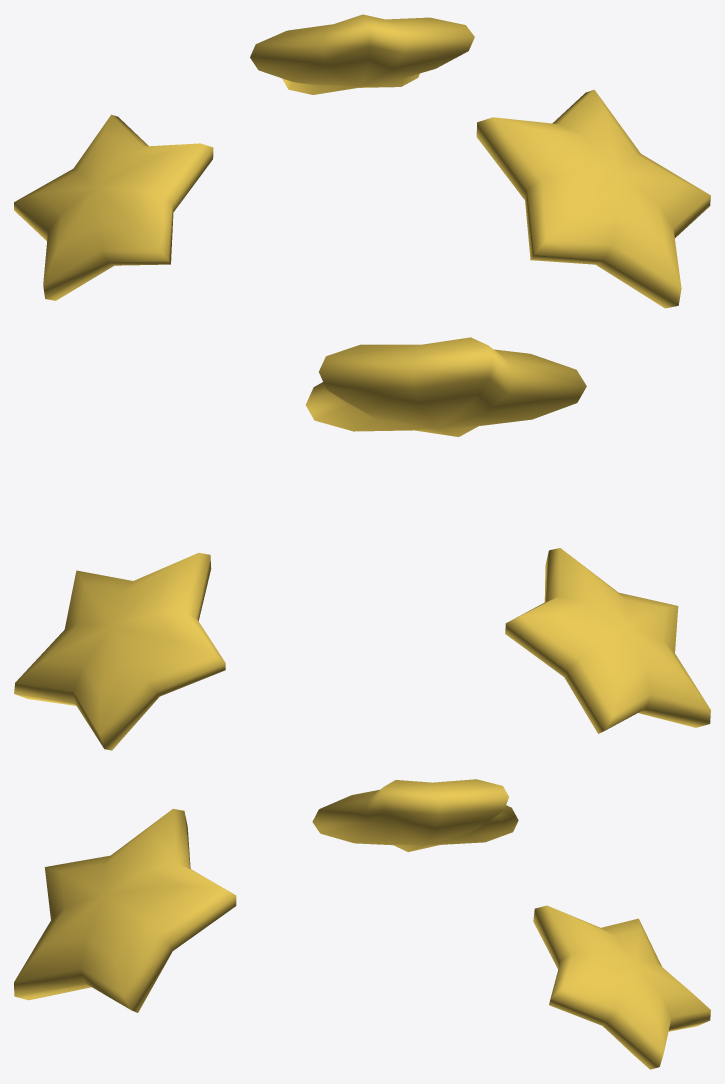
File: Stars.fbx
3 views of the same model, one above another, from view 1: azimuth 30°, elevation 25°; view 2: azimuth 150°, elevation 25°; view 3: azimuth 270°, elevation 25° (orthographic). The views are drawn at different scales.
Visible parts, largest first — view 1: Star1, Star3, Star2; view 2: Star2, Star1, Star3; view 3: Star1, Star2, Star3.
Part boxes in pixels (bbox=[...]): Star1: bbox=[476, 89, 710, 308]; Star3: bbox=[14, 114, 213, 300]; Star2: bbox=[250, 14, 474, 94]; Star2: bbox=[14, 553, 225, 750]; Star1: bbox=[305, 337, 586, 436]; Star3: bbox=[505, 548, 710, 733]; Star1: bbox=[14, 808, 236, 1012]; Star2: bbox=[533, 905, 710, 1069]; Star3: bbox=[312, 779, 518, 851].
Bounding box in the file's own units: 54.3 × 19.34 × 66.69.
